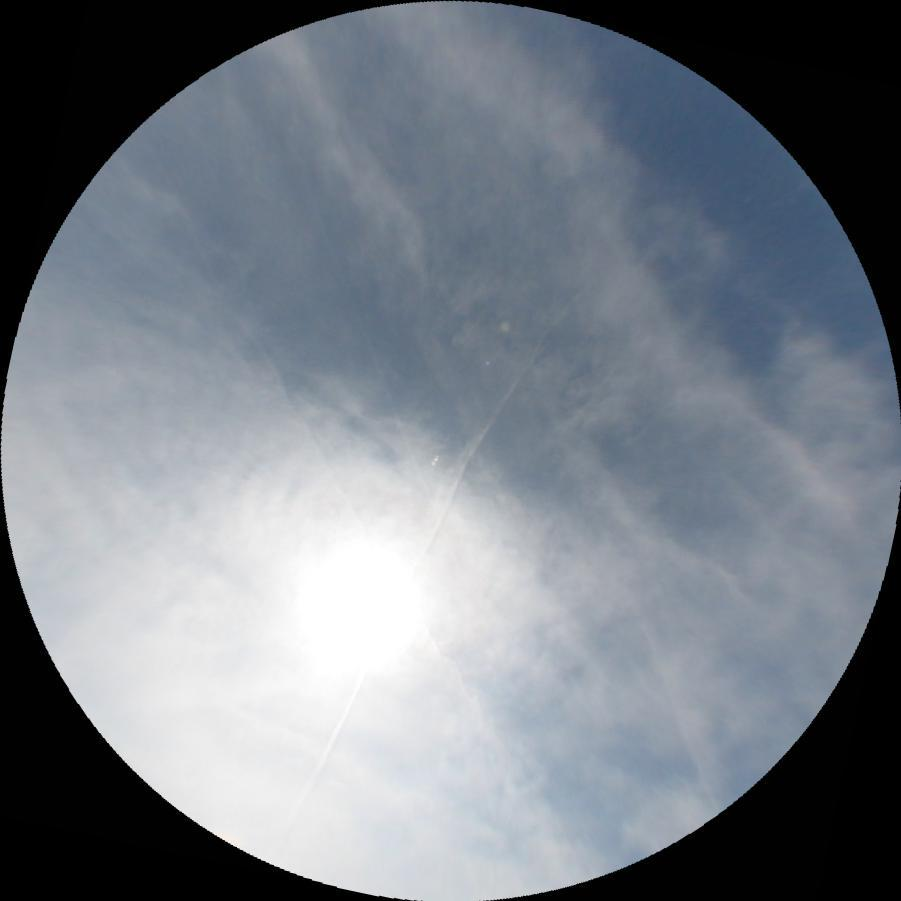contrail old: (267, 274, 583, 819)
sun: (281, 527, 431, 685)
